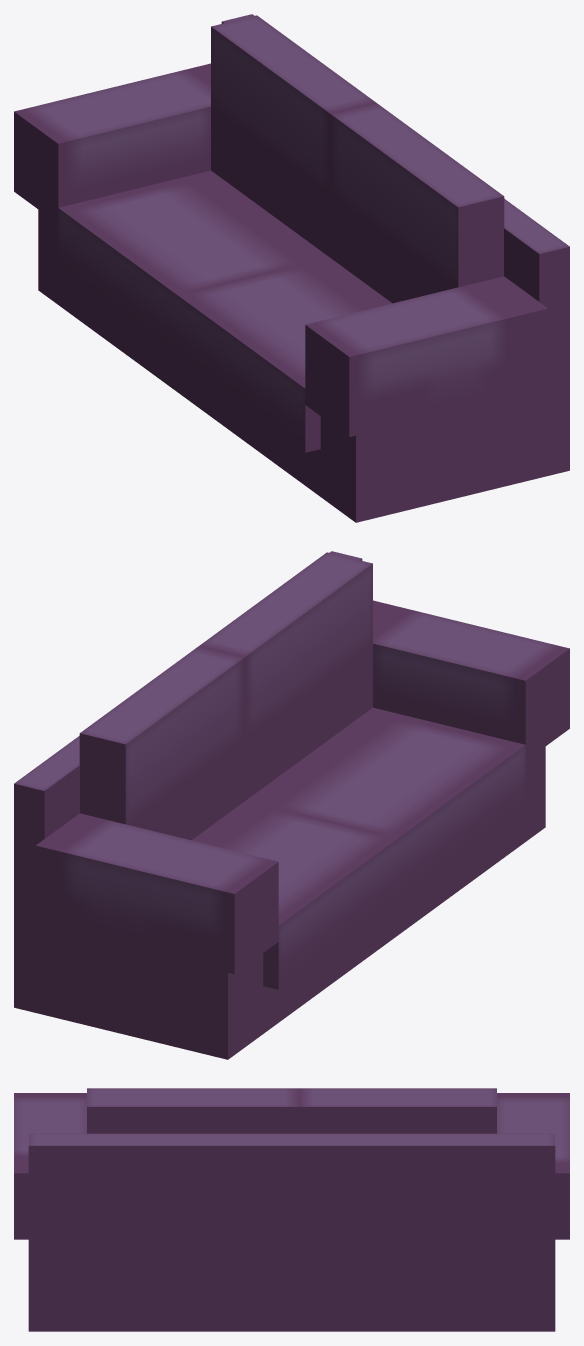
The model's file is Couch.fbx.
3 views of the same model, one above another, from view 1: azimuth 30°, elevation 25°; view 2: azimuth 150°, elevation 25°; view 3: azimuth 270°, elevation 25° (orthographic). The views are drawn at different scales.
Visible parts, largest first — view 1: cube; view 2: cube; view 3: cube.
Boxes of the visible parts, <box> form: cube: <box>14,14,569,522</box>; cube: <box>14,551,569,1059</box>; cube: <box>14,1088,569,1331</box>.
Size of the model in its own units: 23.44 by 25.01 by 59.39.
1 material, 1 textured.
